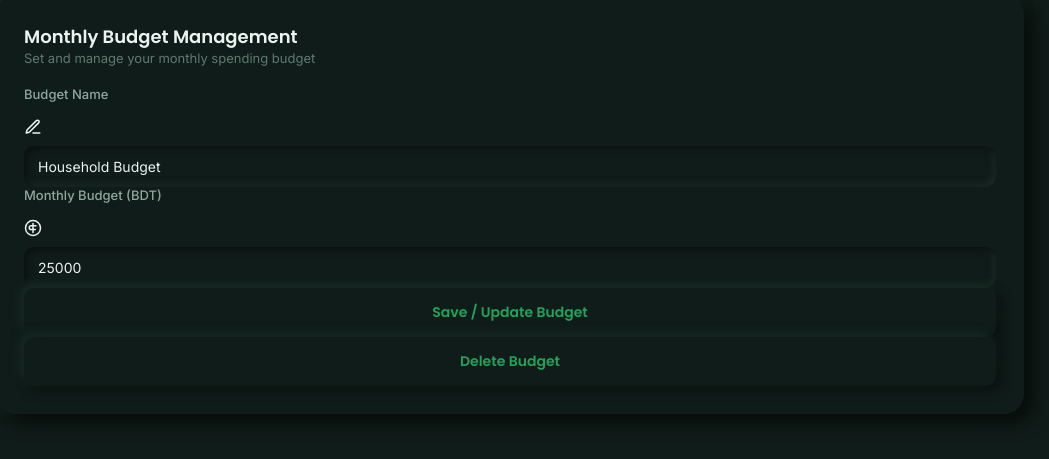
Scenario: BudgetPage Component › updates the existing budget when one is already loaded
Expected: the field showing "Household Budget" is shown, 24,146 -> 996,187
Replace the text in the number field with placeholder "Enter monthly budget amount" with "27000" at (510, 268), box 24,247 -> 996,288
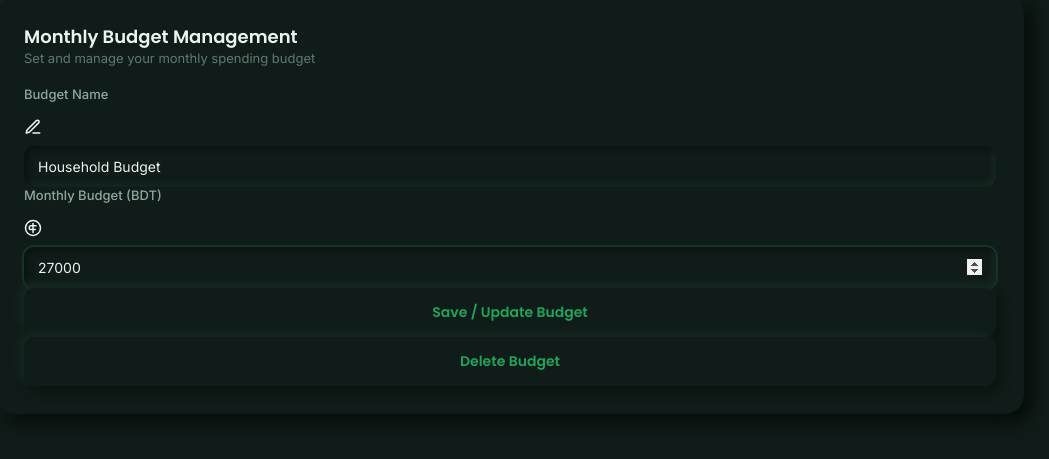
Click the button "Save / Update Budget" at (510, 312), box 24,288 -> 996,337
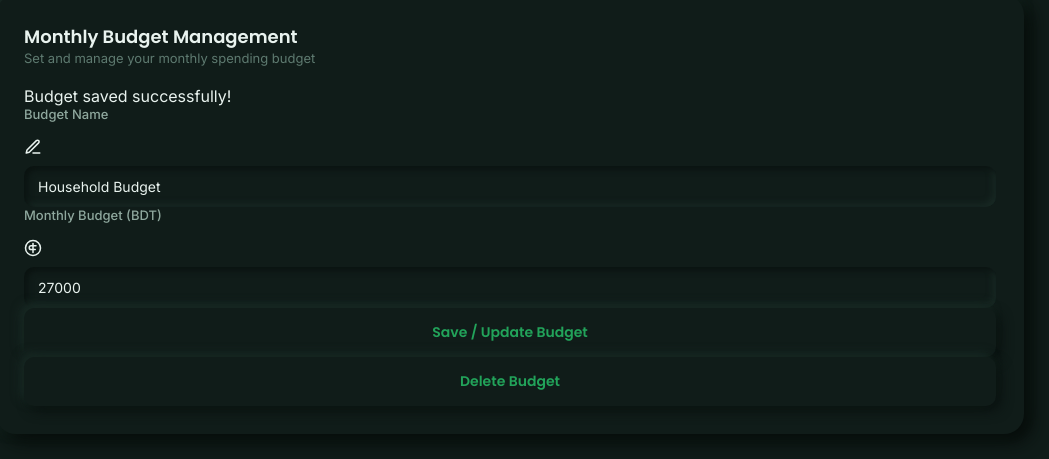
Expected: the text "Budget saved successfully!" is shown, 24,86 -> 231,106
